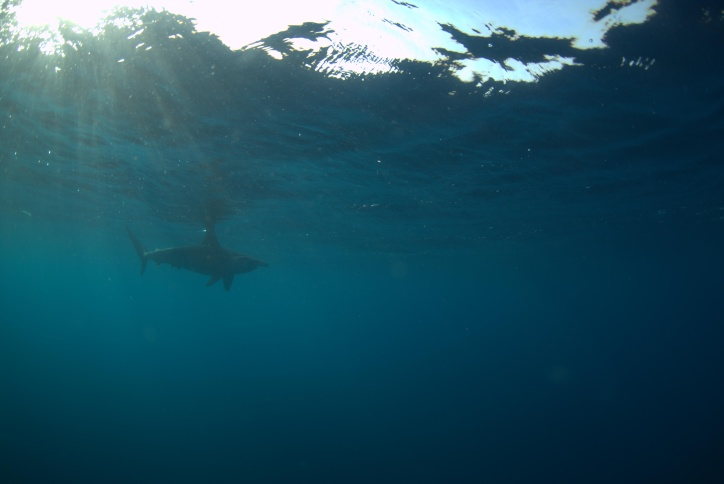Hammer: (115, 205, 289, 302)
